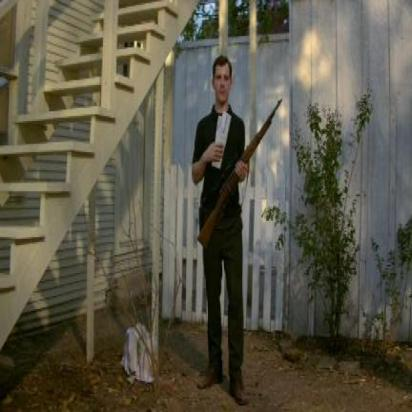Gun: (195, 94, 284, 254)
